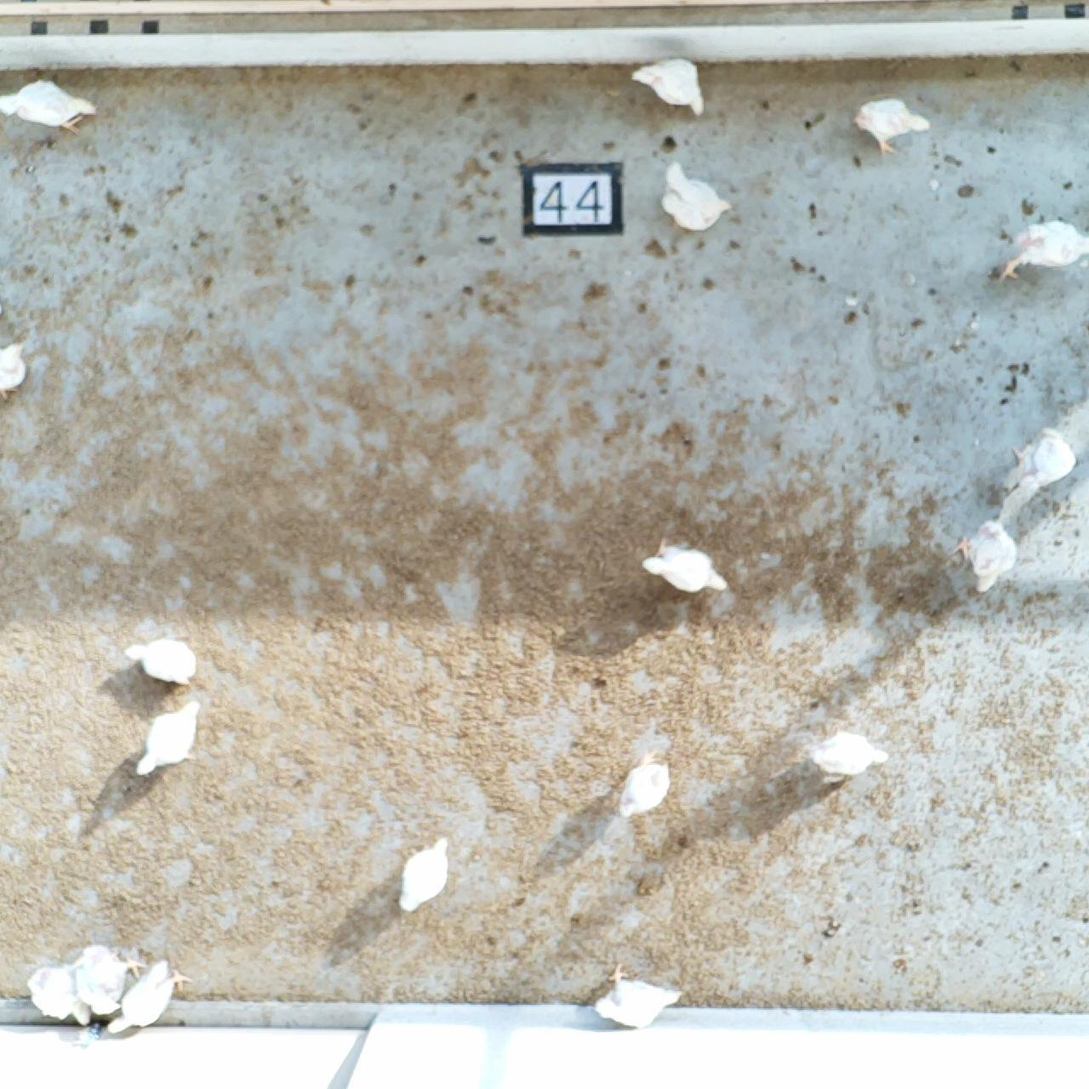chicken: (111, 958, 182, 1041), (597, 967, 682, 1031), (134, 703, 201, 782), (663, 164, 737, 233), (1003, 222, 1089, 281), (1, 79, 94, 130), (642, 544, 733, 596), (633, 58, 707, 118), (399, 836, 453, 917), (960, 522, 1019, 593), (852, 101, 932, 152), (811, 732, 887, 785), (80, 942, 134, 1010), (1020, 429, 1075, 492), (616, 763, 670, 823), (26, 967, 90, 1016), (128, 643, 204, 682), (1, 338, 31, 398)
